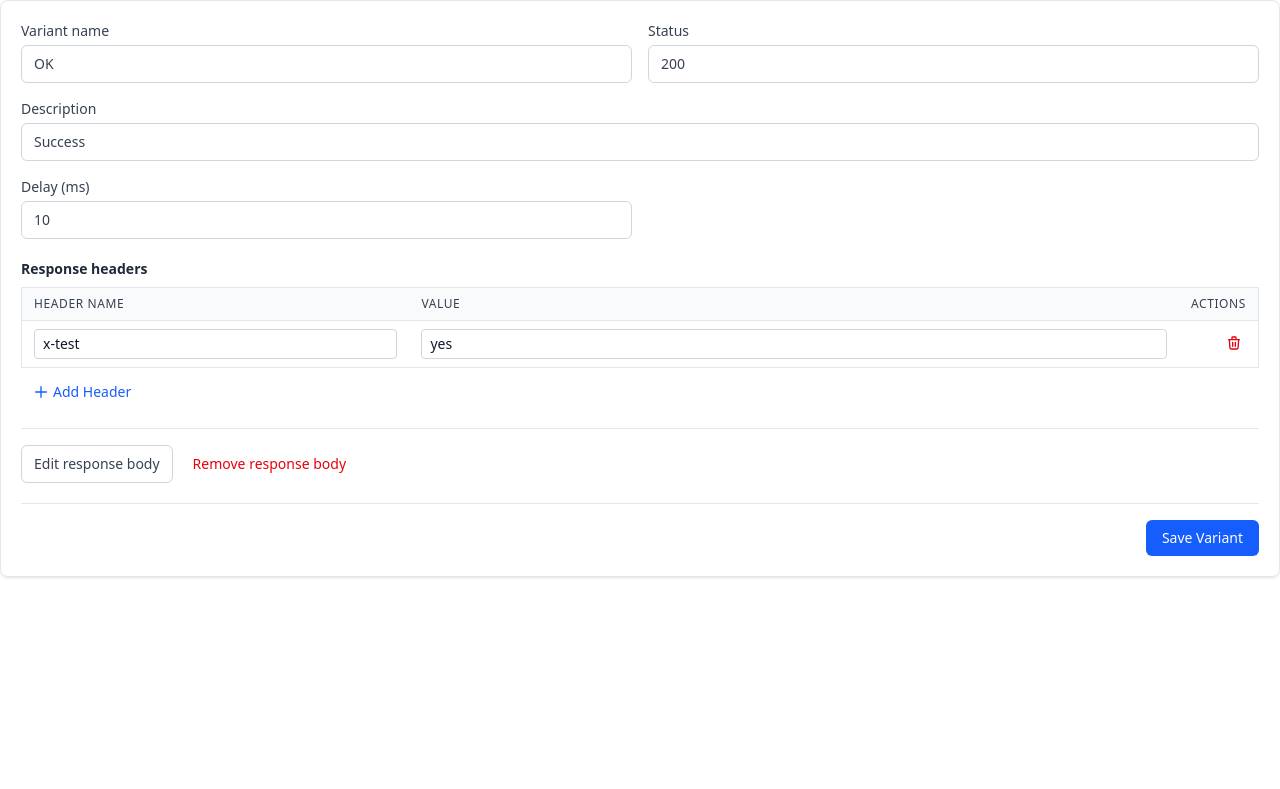
it: VariantEditor › keeps each new body identity lazy after another body was open
Click the button "Edit response body".
click(97, 464)  # box [21,445,173,483]
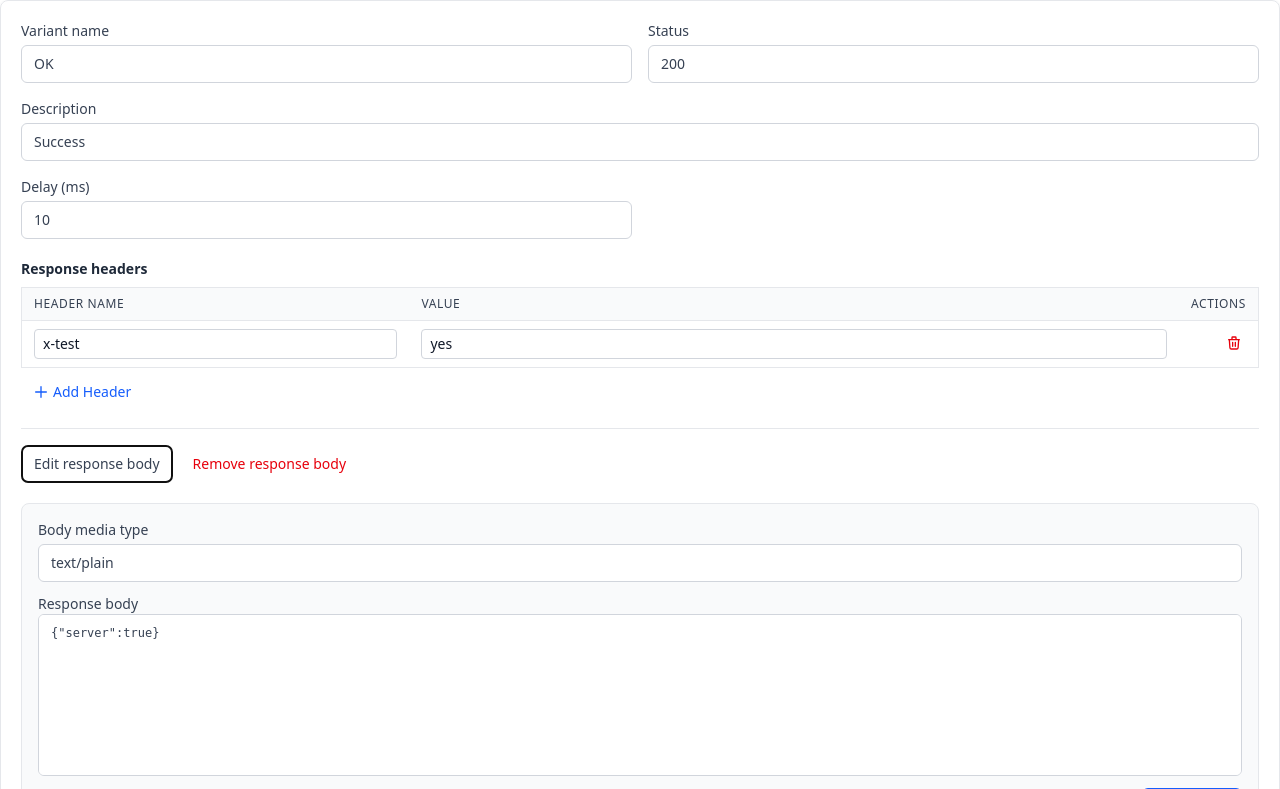
expect the field named "Response body" is shown: met, box [51,626,159,640]
